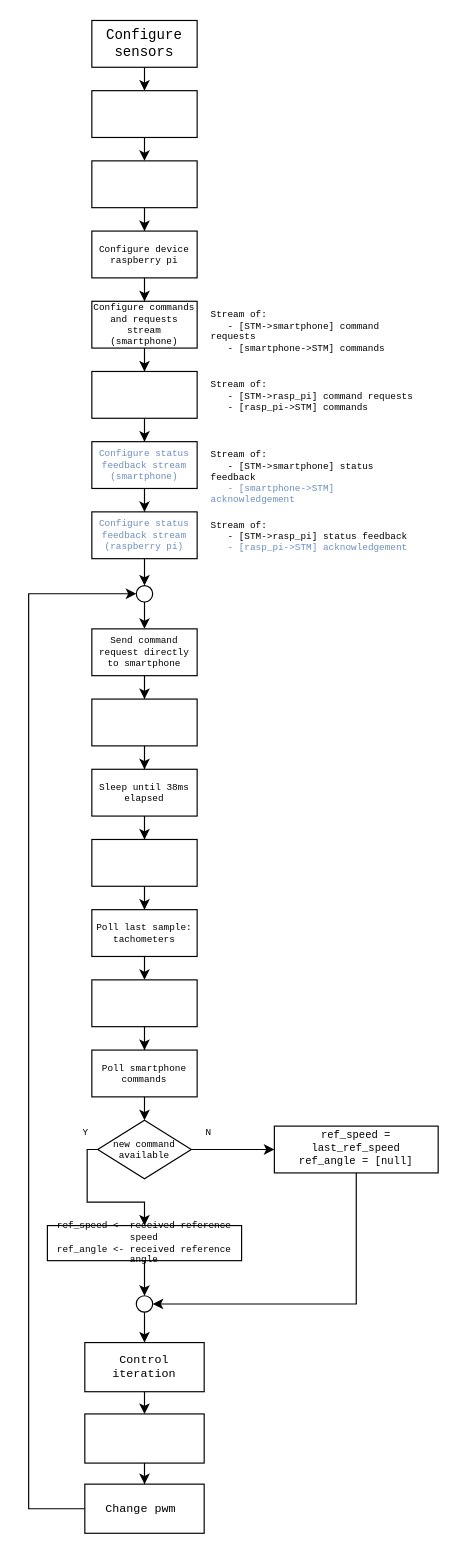
The diagram is 459 pixels wide and 1554 high, and some of its shapes have lost their labels. The centre of each missing label's shape, as x and y in pixels:
"Configure commands and requests stream (raspberry pi)" belongs at point (144, 394).
"Configure device smartphone" belongs at point (144, 184).
"Configure motors" belongs at point (144, 113).
"Poll last sample: IR sensors" belongs at point (144, 862).
"Send command request through rasp pi" belongs at point (144, 722).
"Sleep until 10 ms elapsed" belongs at point (144, 1438).
"Sleep until 2ms elapsed" belongs at point (144, 1003).
